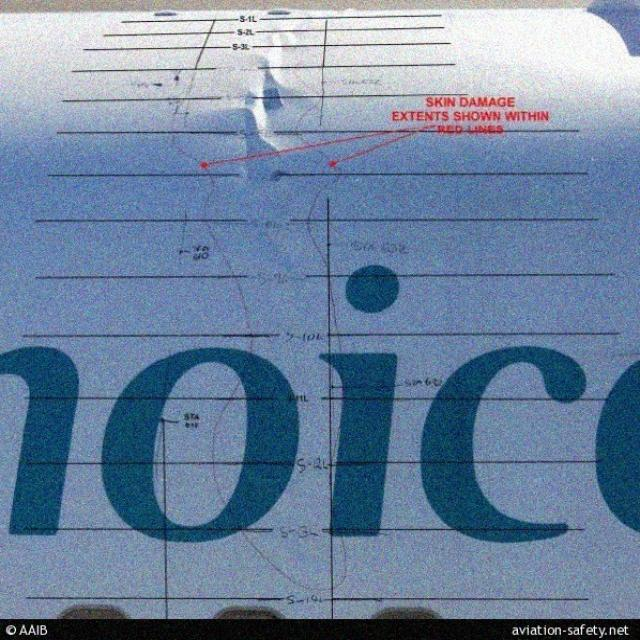dent: (201, 99, 286, 158), (254, 33, 294, 111), (260, 16, 318, 66)
